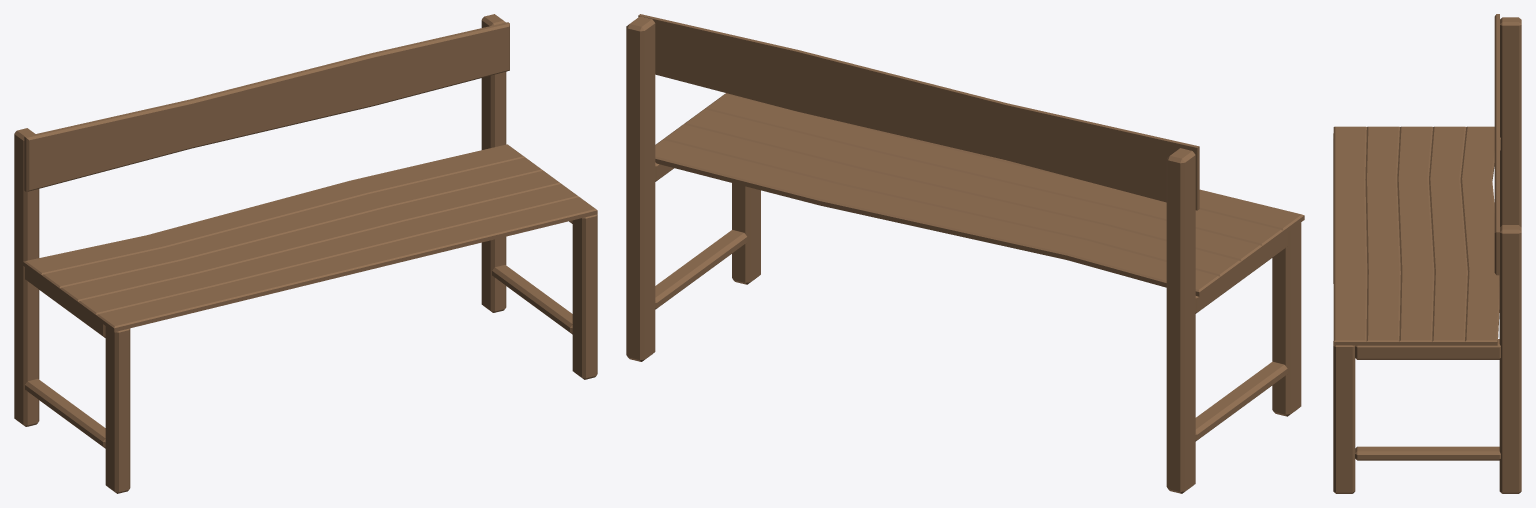
File: bench_d001.glb
The picture shows the model from 3 angles, left to right: view 1: azimuth 30°, elevation 25°; view 2: azimuth 150°, elevation 25°; view 3: azimuth 270°, elevation 25°; orthographic projection. The views are drawn at different scales.
Visible parts, largest first — view 1: bench_d001; view 2: bench_d001; view 3: bench_d001.
Part boxes in pixels (left/top/right/bottom): bench_d001: left=14, top=14, right=597, bottom=493; bench_d001: left=626, top=14, right=1304, bottom=493; bench_d001: left=1333, top=14, right=1521, bottom=493.
Bounding box in the file's own units: 1.38 × 0.7921 × 0.5083.
1 material, 1 textured.
